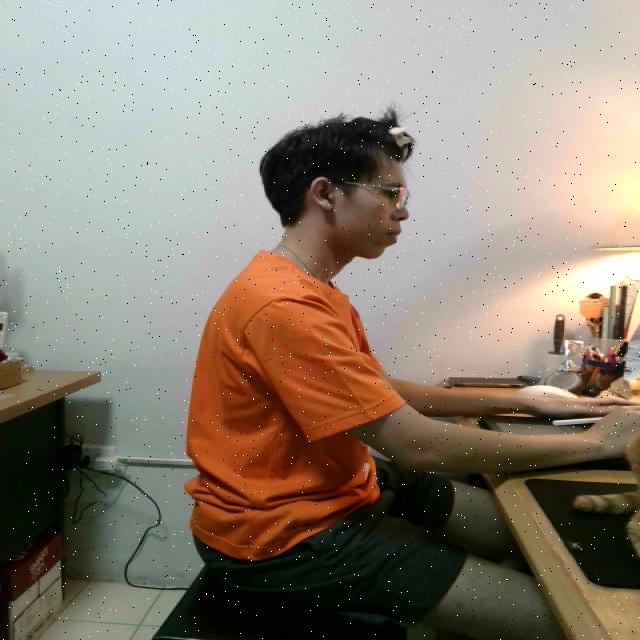Good: (160, 96, 481, 603)
